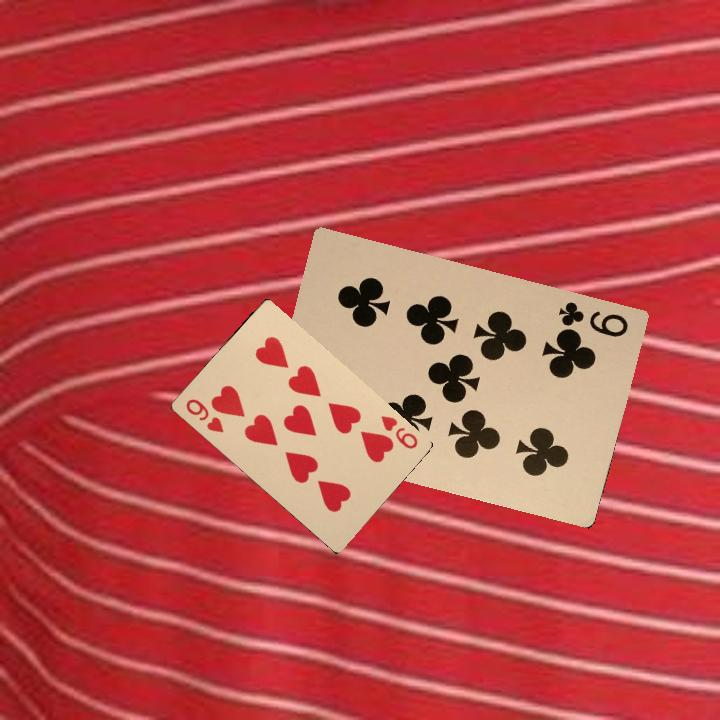9c: (555, 297, 631, 340)
9h: (377, 411, 421, 452), (182, 395, 226, 435)
